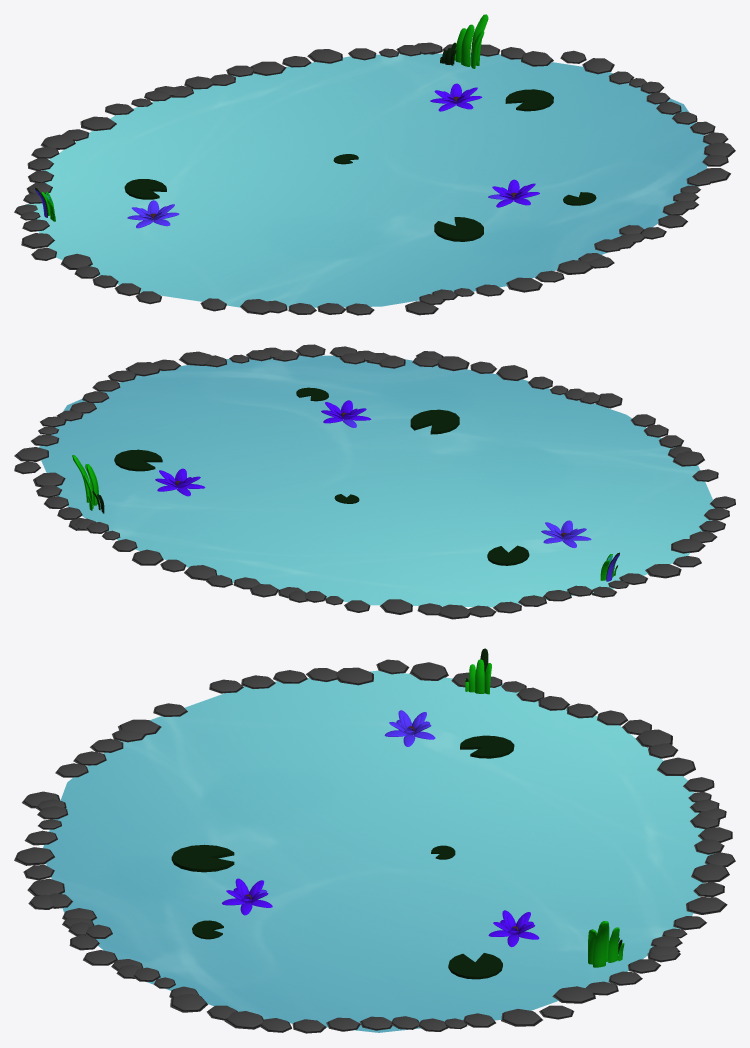
File: yeni-golet.fbx
3 renders of one model, top to bottom at view 1: azimuth 30°, elevation 25°; view 2: azimuth 150°, elevation 25°; view 3: azimuth 270°, elevation 25°, orthographic. The views are drawn at different scales.
Visible parts, largest first — view 1: 78; view 2: 78; view 3: 78.
Boxes of the visible parts, box(x1,y1,x2,y2) form: 78: box(28, 14, 709, 308); 78: box(39, 355, 714, 607); 78: box(43, 648, 715, 1032).
Bounding box in the file's own units: 206 × 14.86 × 168.
7 materials, 1 textured.
